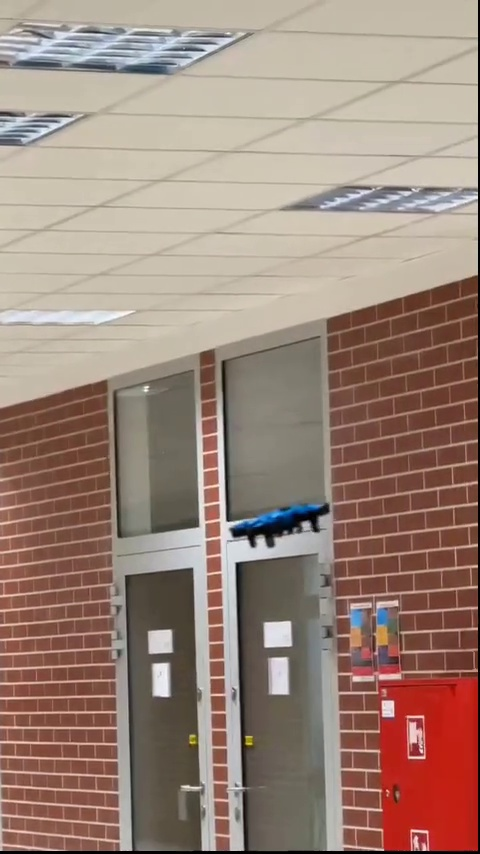drone: (229, 505, 330, 540)
